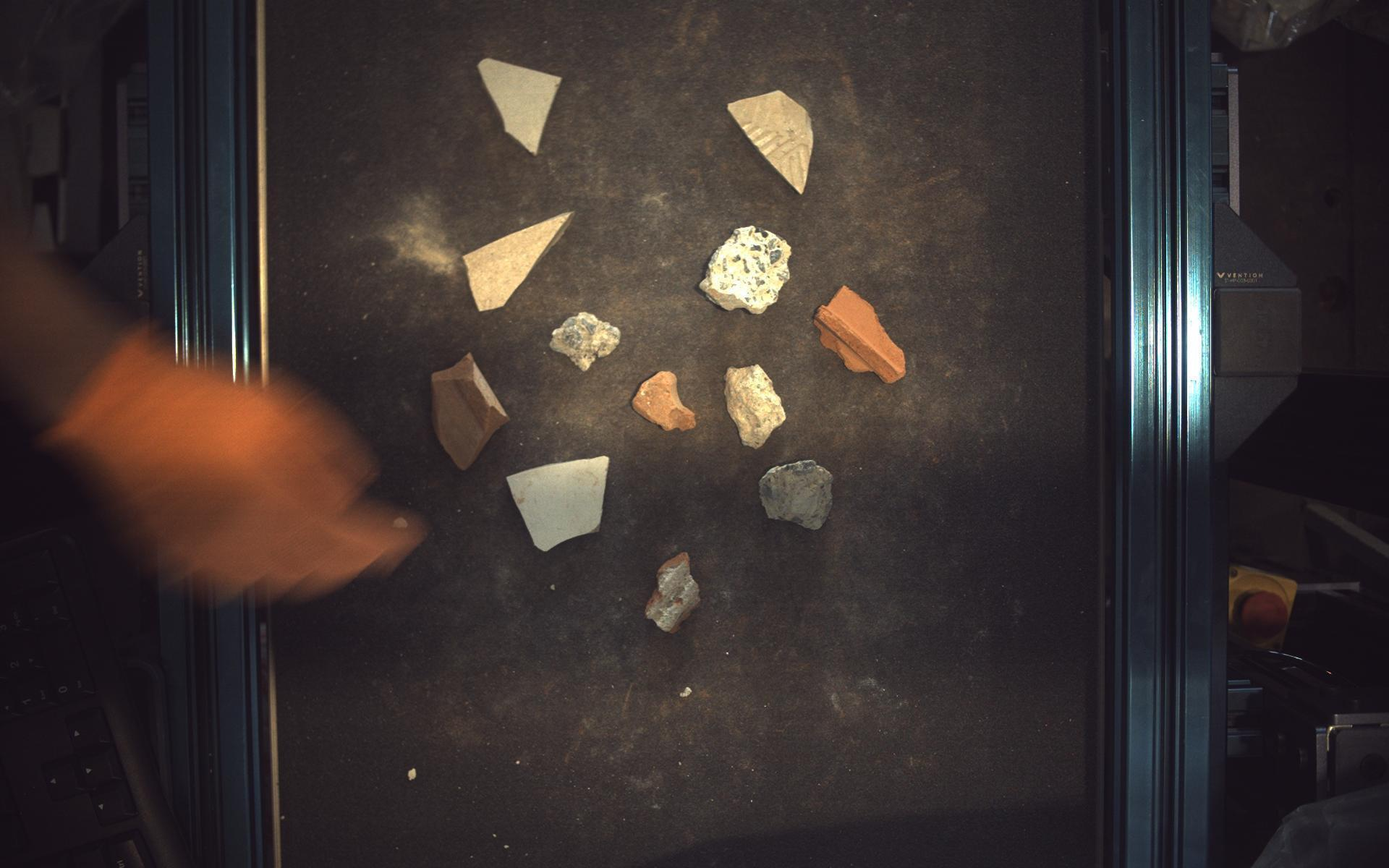brick: (431, 353, 509, 470), (815, 285, 907, 383), (646, 553, 701, 634), (633, 371, 697, 431)
concrete: (700, 225, 793, 314), (760, 460, 833, 530), (726, 365, 787, 448), (551, 311, 621, 371)
tile: (464, 212, 574, 311), (507, 456, 610, 552), (729, 89, 815, 193), (477, 57, 562, 153)
